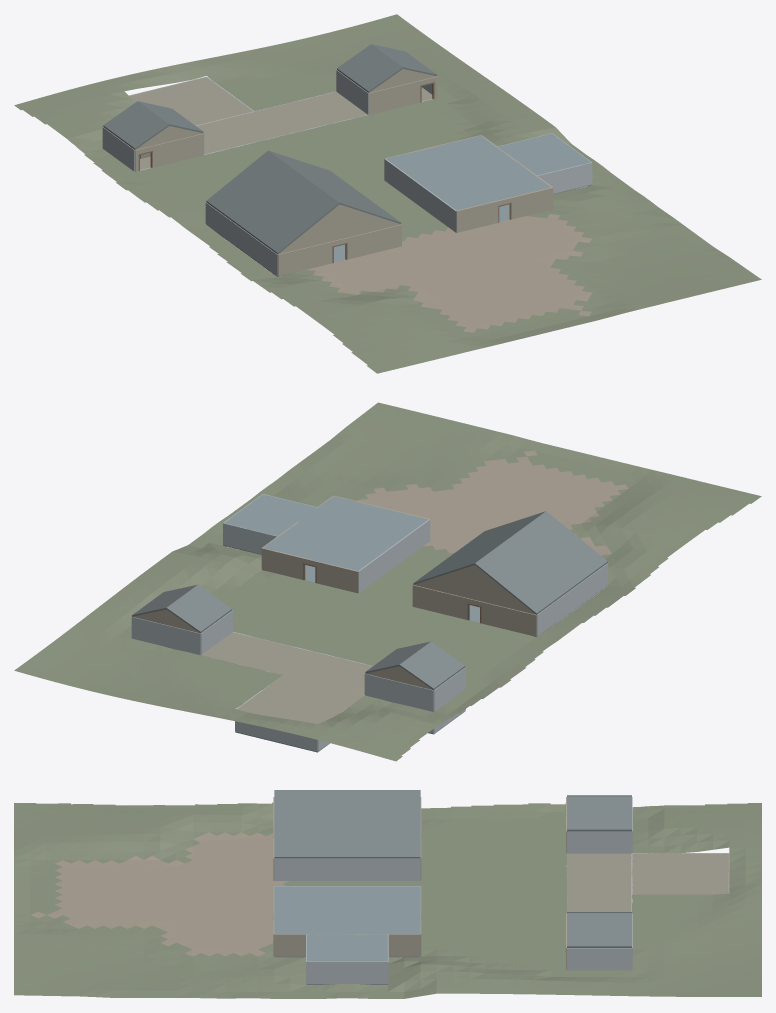
Rendered from authored-grounds.glb.
3 views of the same model, one above another, from view 1: azimuth 30°, elevation 25°; view 2: azimuth 150°, elevation 25°; view 3: azimuth 270°, elevation 25° (orthographic). The views are drawn at different scales.
Parts seen in each view (by area): view 1: WLD-07 saved ground, WLD-07 chapel west slope, Ceiling cap cottage, WLD-07 ossuary full deck region0, WLD-07 archive full cover region0, WLD-07 chapel south masonry gable, Ceiling cap tool, WLD-07 chapel east slope, WLD-07 west-stair west slope, WLD-07 east-stair west slope, Wall cottage W, Wall chapel W (+11 smaller); view 2: WLD-07 saved ground, WLD-07 chapel west slope, Ceiling cap cottage, WLD-07 ossuary full deck region0, WLD-07 archive full cover region0, WLD-07 chapel north masonry gable, Ceiling cap tool, WLD-07 chapel east slope, WLD-07 west-stair west slope, WLD-07 east-stair west slope, Wall cottage W, Wall chapel W (+12 smaller); view 3: WLD-07 saved ground, WLD-07 chapel east slope, Ceiling cap cottage, WLD-07 archive full cover region0, WLD-07 ossuary full deck region0, Wall chapel E, WLD-07 west-stair east slope, Ceiling cap tool, WLD-07 east-stair east slope, Wall tool E, Wall west-stair E, Wall east-stair E (+2 smaller).
Boxes of the visible parts, box(x1,y1,x2,y2) form: WLD-07 saved ground: box(14, 14, 761, 373); WLD-07 chapel west slope: box(206, 150, 339, 254); Ceiling cap cottage: box(386, 135, 550, 210); WLD-07 ossuary full deck region0: box(196, 92, 367, 154); WLD-07 archive full cover region0: box(129, 77, 253, 125); WLD-07 chapel south masonry gable: box(278, 204, 400, 254); Ceiling cap tool: box(497, 133, 590, 175); WLD-07 chapel east slope: box(269, 151, 401, 224); WLD-07 west-stair west slope: box(103, 101, 169, 149); WLD-07 east-stair west slope: box(337, 44, 402, 92); Wall cottage W: box(384, 158, 456, 232); Wall chapel W: box(205, 202, 277, 276); WLD-07 saved ground: box(14, 402, 761, 761); WLD-07 chapel west slope: box(475, 511, 607, 614); Ceiling cap cottage: box(263, 496, 428, 570); WLD-07 ossuary full deck region0: box(201, 632, 372, 694); WLD-07 archive full cover region0: box(237, 675, 364, 724); WLD-07 chapel north masonry gable: box(414, 565, 535, 614); Ceiling cap tool: box(224, 494, 317, 536); WLD-07 chapel east slope: box(413, 511, 545, 584); WLD-07 west-stair west slope: box(399, 641, 465, 689); WLD-07 east-stair west slope: box(166, 585, 232, 633); Wall cottage W: box(358, 519, 430, 592); Wall chapel W: box(536, 563, 608, 636); WLD-07 saved ground: box(14, 802, 761, 998); WLD-07 chapel east slope: box(274, 790, 420, 858); Ceiling cap cottage: box(274, 886, 420, 934); WLD-07 archive full cover region0: box(632, 853, 729, 894); WLD-07 ossuary full deck region0: box(567, 853, 631, 911); Wall chapel E: box(274, 858, 420, 880); WLD-07 west-stair east slope: box(567, 796, 631, 831); Ceiling cap tool: box(306, 934, 387, 961); WLD-07 east-stair east slope: box(567, 913, 631, 947); Wall tool E: box(306, 961, 387, 983); Wall west-stair E: box(567, 831, 631, 853); Wall east-stair E: box(567, 948, 631, 970).
Size of the model in its own units: 56 by 11.28 by 92.
20 materials, 10 textured.
